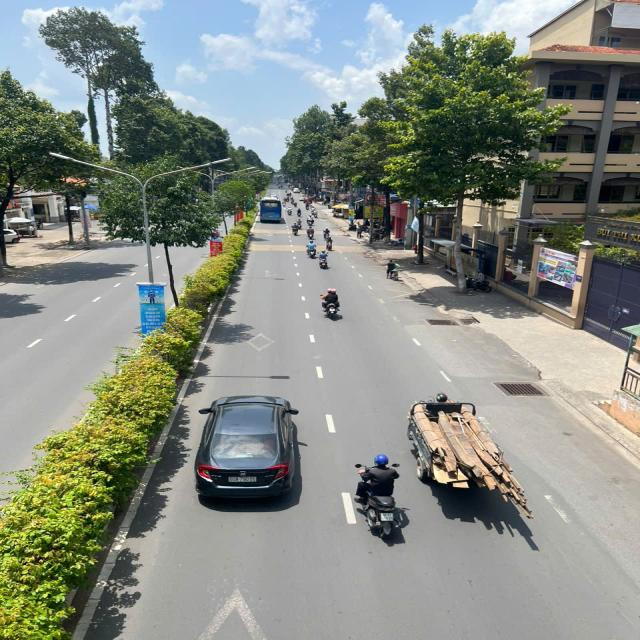car: (192, 392, 300, 503), (258, 196, 283, 223)
motobyte: (352, 453, 402, 544), (318, 287, 343, 321), (316, 250, 331, 270), (306, 238, 318, 259), (326, 234, 336, 252), (291, 219, 300, 238), (307, 223, 317, 239), (322, 226, 332, 241), (307, 214, 316, 228), (297, 215, 304, 230), (296, 207, 304, 218), (311, 206, 319, 216), (287, 205, 293, 217), (304, 201, 310, 209)
